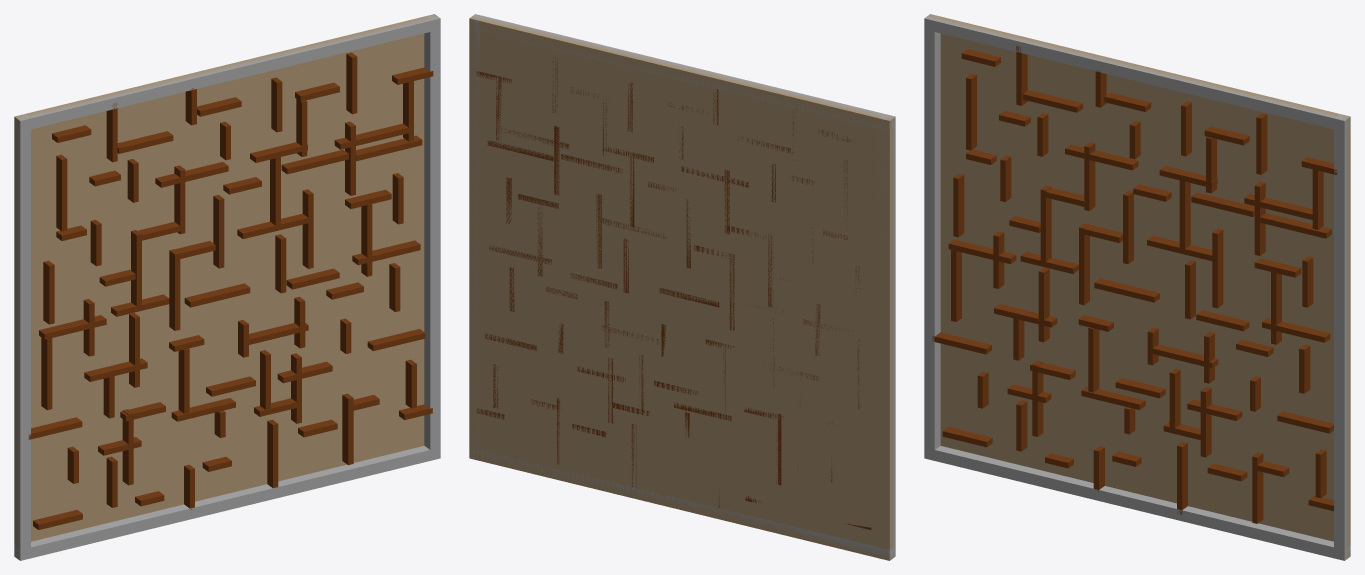
The model's file is mesh_partition.dae.
The picture shows the model from 3 angles, left to right: view 1: azimuth 30°, elevation 25°; view 2: azimuth 150°, elevation 25°; view 3: azimuth 330°, elevation 25°; orthographic projection.
Parts seen in each view (by area): view 1: node; view 2: node; view 3: node.
Boxes of the visible parts, x1=… form: node: x1=14, y1=14, x2=440, y2=560; node: x1=469, y1=14, x2=895, y2=560; node: x1=924, y1=14, x2=1350, y2=560.
Bounding box in the file's own units: 80 × 80 × 2.
